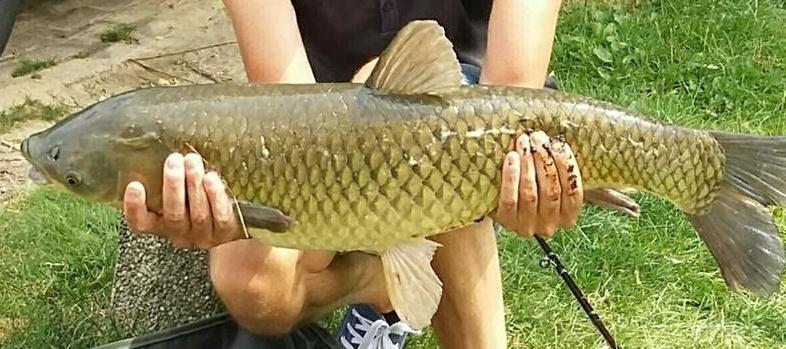Grass Carp: (22, 18, 786, 332)
